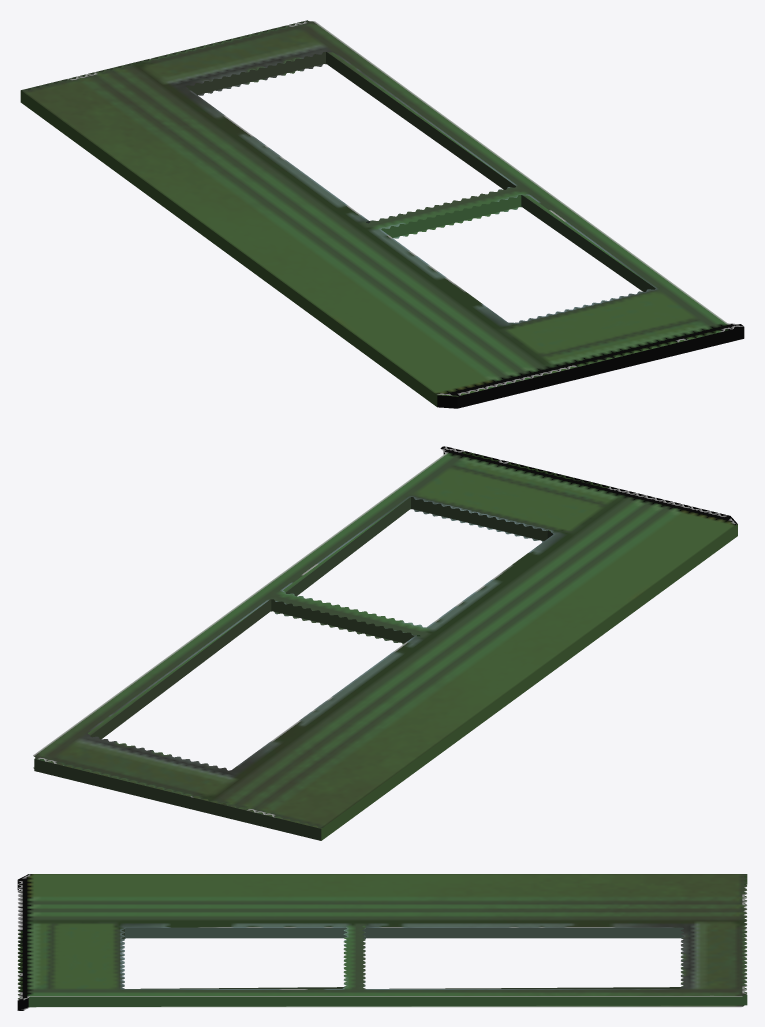
The model's file is pz_native_location_shop_greenes_01_68_frame.obj.
The picture shows the model from 3 angles, top to bottom: view 1: azimuth 30°, elevation 25°; view 2: azimuth 150°, elevation 25°; view 3: azimuth 270°, elevation 25°; orthographic projection. The views are drawn at different scales.
Parts seen in each view (by area): view 1: pz_native_location_shop_greenes_01_68_frame; view 2: pz_native_location_shop_greenes_01_68_frame; view 3: pz_native_location_shop_greenes_01_68_frame.
Boxes of the visible parts, bbox=[...] form: pz_native_location_shop_greenes_01_68_frame: bbox=[20, 20, 744, 408]; pz_native_location_shop_greenes_01_68_frame: bbox=[33, 446, 737, 840]; pz_native_location_shop_greenes_01_68_frame: bbox=[17, 874, 747, 1010].
Size of the model in its own units: 1.06 by 0.04 by 2.54.
Materials: 1 (1 with a texture image).
